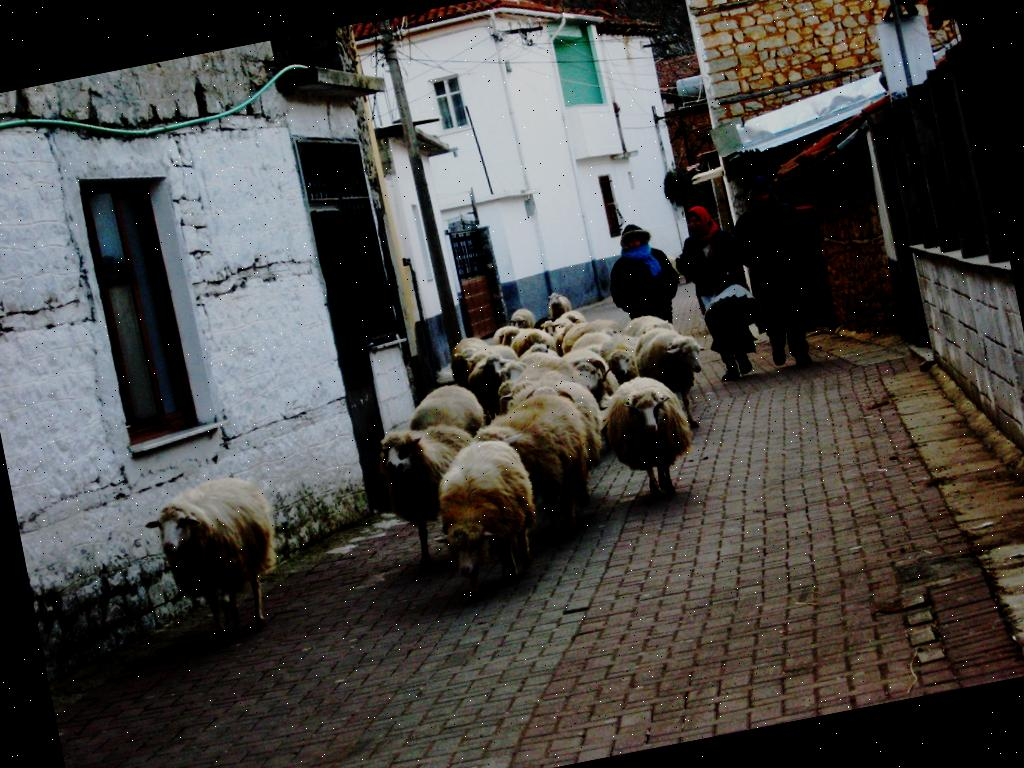Sheep: (131, 453, 304, 659), (359, 406, 501, 578), (468, 384, 608, 558), (426, 430, 553, 604), (508, 370, 617, 520), (594, 365, 704, 508), (631, 318, 721, 439), (402, 375, 491, 456), (562, 338, 632, 434), (466, 346, 528, 422), (592, 325, 654, 395), (445, 330, 498, 394), (618, 304, 683, 354), (558, 312, 629, 355), (508, 321, 558, 364), (506, 304, 540, 338), (546, 288, 574, 324)
